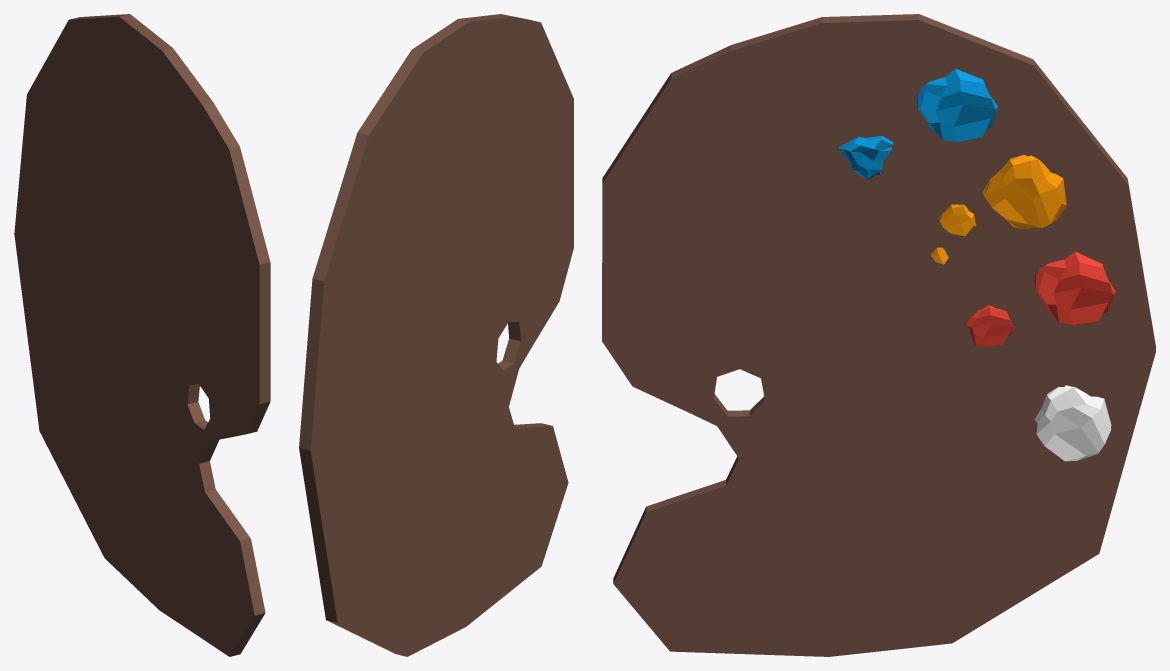
Rendered from paint-palette-by-jeremy-94Eii6n3_fI.glb.
3 views of the same model, side by side, from view 1: azimuth 30°, elevation 25°; view 2: azimuth 150°, elevation 25°; view 3: azimuth 270°, elevation 25° (orthographic). The views are drawn at different scales.
Visible parts, largest first — view 1: Paint_Palette_Cube.025; view 2: Paint_Palette_Cube.025; view 3: Paint_Palette_Cube.025.
Boxes of the visible parts, box(x1,y1,x2,y2) form: Paint_Palette_Cube.025: box(14, 14, 270, 656); Paint_Palette_Cube.025: box(299, 14, 573, 656); Paint_Palette_Cube.025: box(602, 14, 1155, 656).
Size of the model in its own units: 0.6685 by 15.8 by 12.45.
